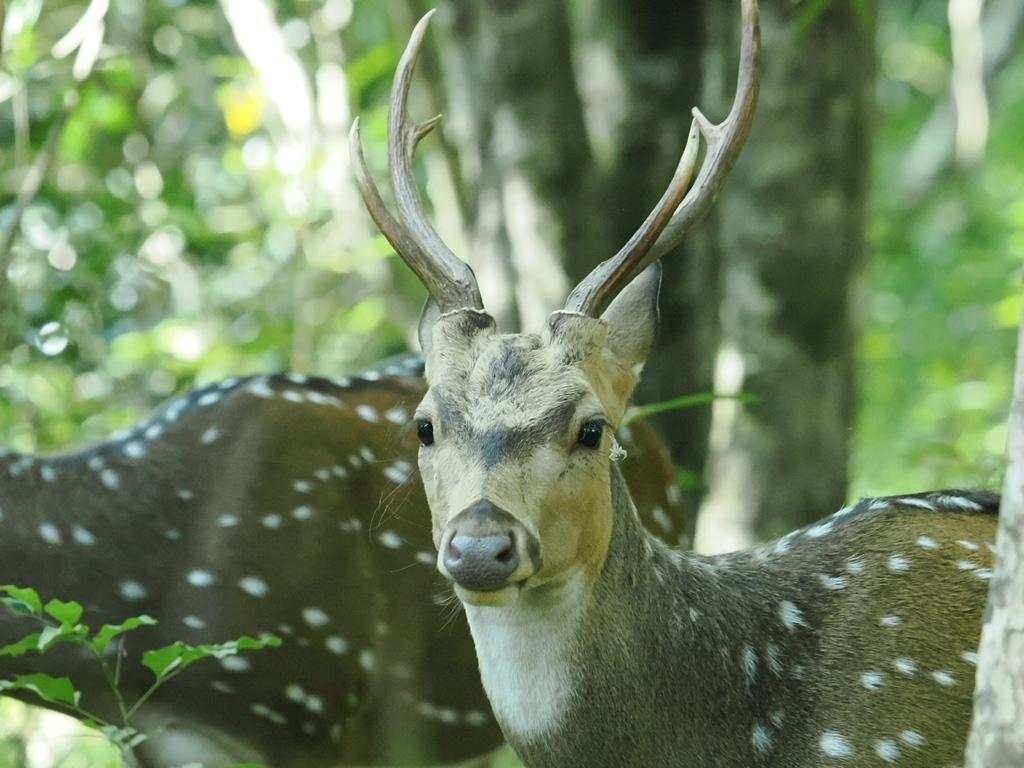Deer: (0, 356, 503, 765)
